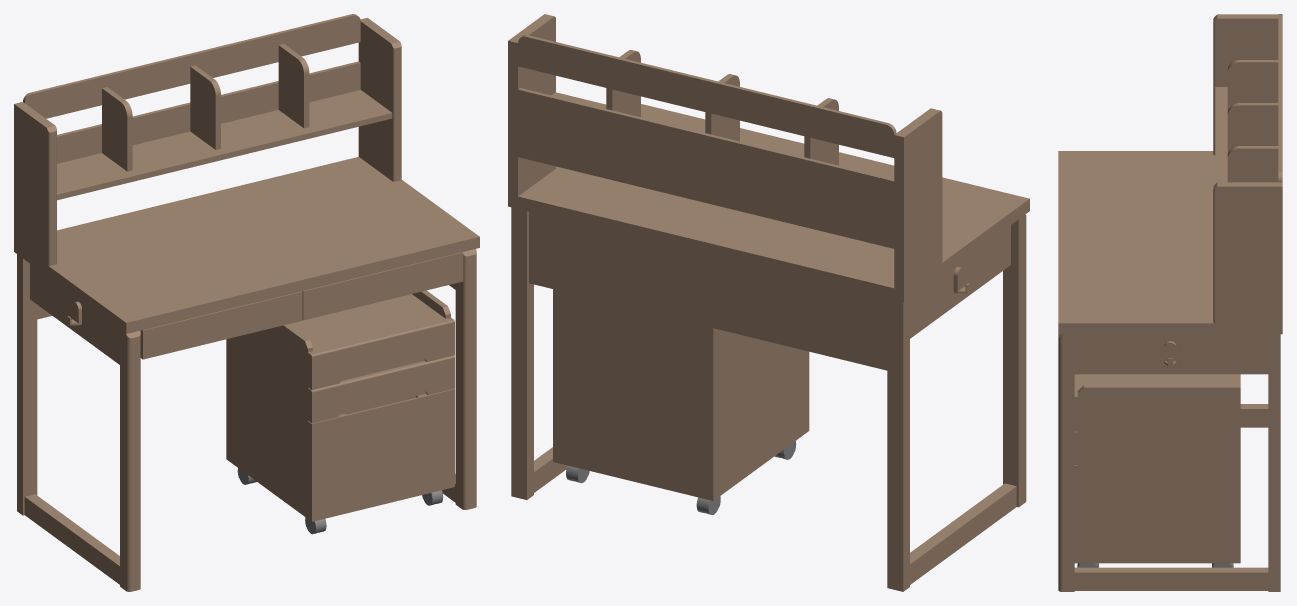
The model's file is 507_学習机.glb.
The picture shows the model from 3 angles, left to right: view 1: azimuth 30°, elevation 25°; view 2: azimuth 150°, elevation 25°; view 3: azimuth 270°, elevation 25°; orthographic projection. The views are drawn at different scales.
Visible parts, largest first — view 1: body, wagon, hikidashi_hidari, hikidashi_migi; view 2: body, wagon; view 3: body, wagon.
Boxes of the visible parts, x1,y1,x2,y2 form: body: [14, 14, 479, 591]; wagon: [226, 290, 454, 534]; hikidashi_hidari: [140, 291, 302, 359]; hikidashi_migi: [302, 252, 463, 320]; body: [508, 14, 1029, 591]; wagon: [553, 289, 809, 514]; body: [1058, 14, 1282, 591]; wagon: [1074, 374, 1240, 567].
Bounding box in the file's own units: 1.01 × 1.12 × 0.55.
